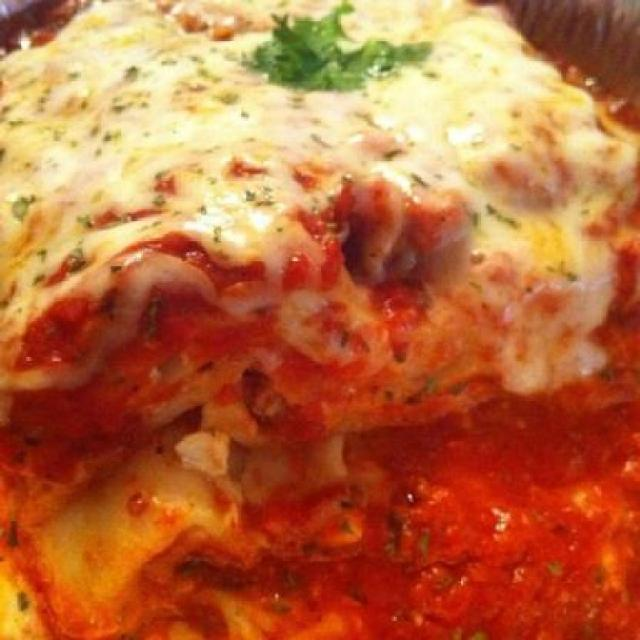Lasagna: (16, 8, 602, 470)
